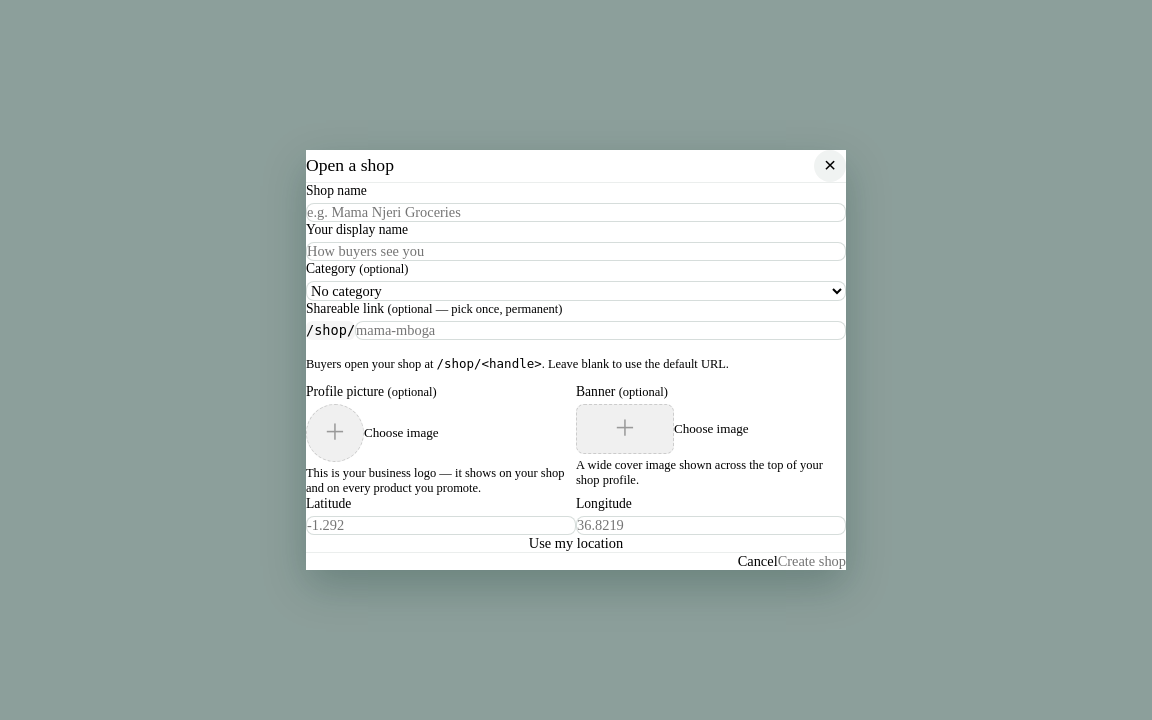
Test: CreateShopForm › probes the server for a syntactically-valid handle and shows "Available" on true
The width and height of the screenshot is (1152, 720).
Step 1. Type "nyama-choma" into the field with test id "shop-handle" → point(601, 330), box top-left (355, 320), bottom-right (846, 340)
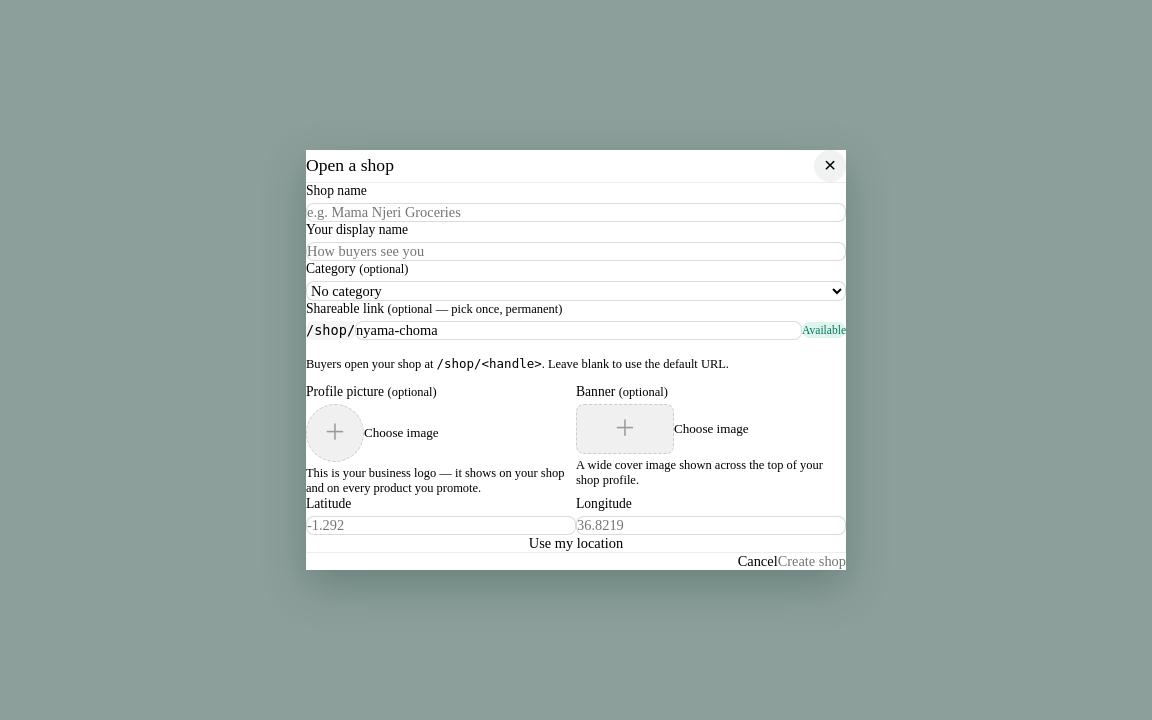
Result: the message with test id "shop-handle-badge" reads "Available" at top-left (802, 324), bottom-right (846, 336)
